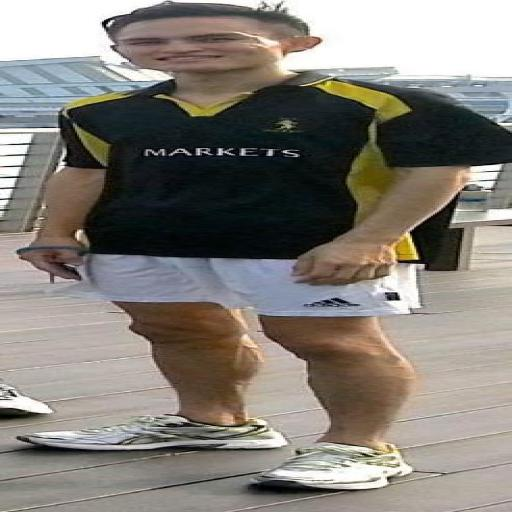person: (19, 2, 511, 489), (0, 380, 54, 416)
